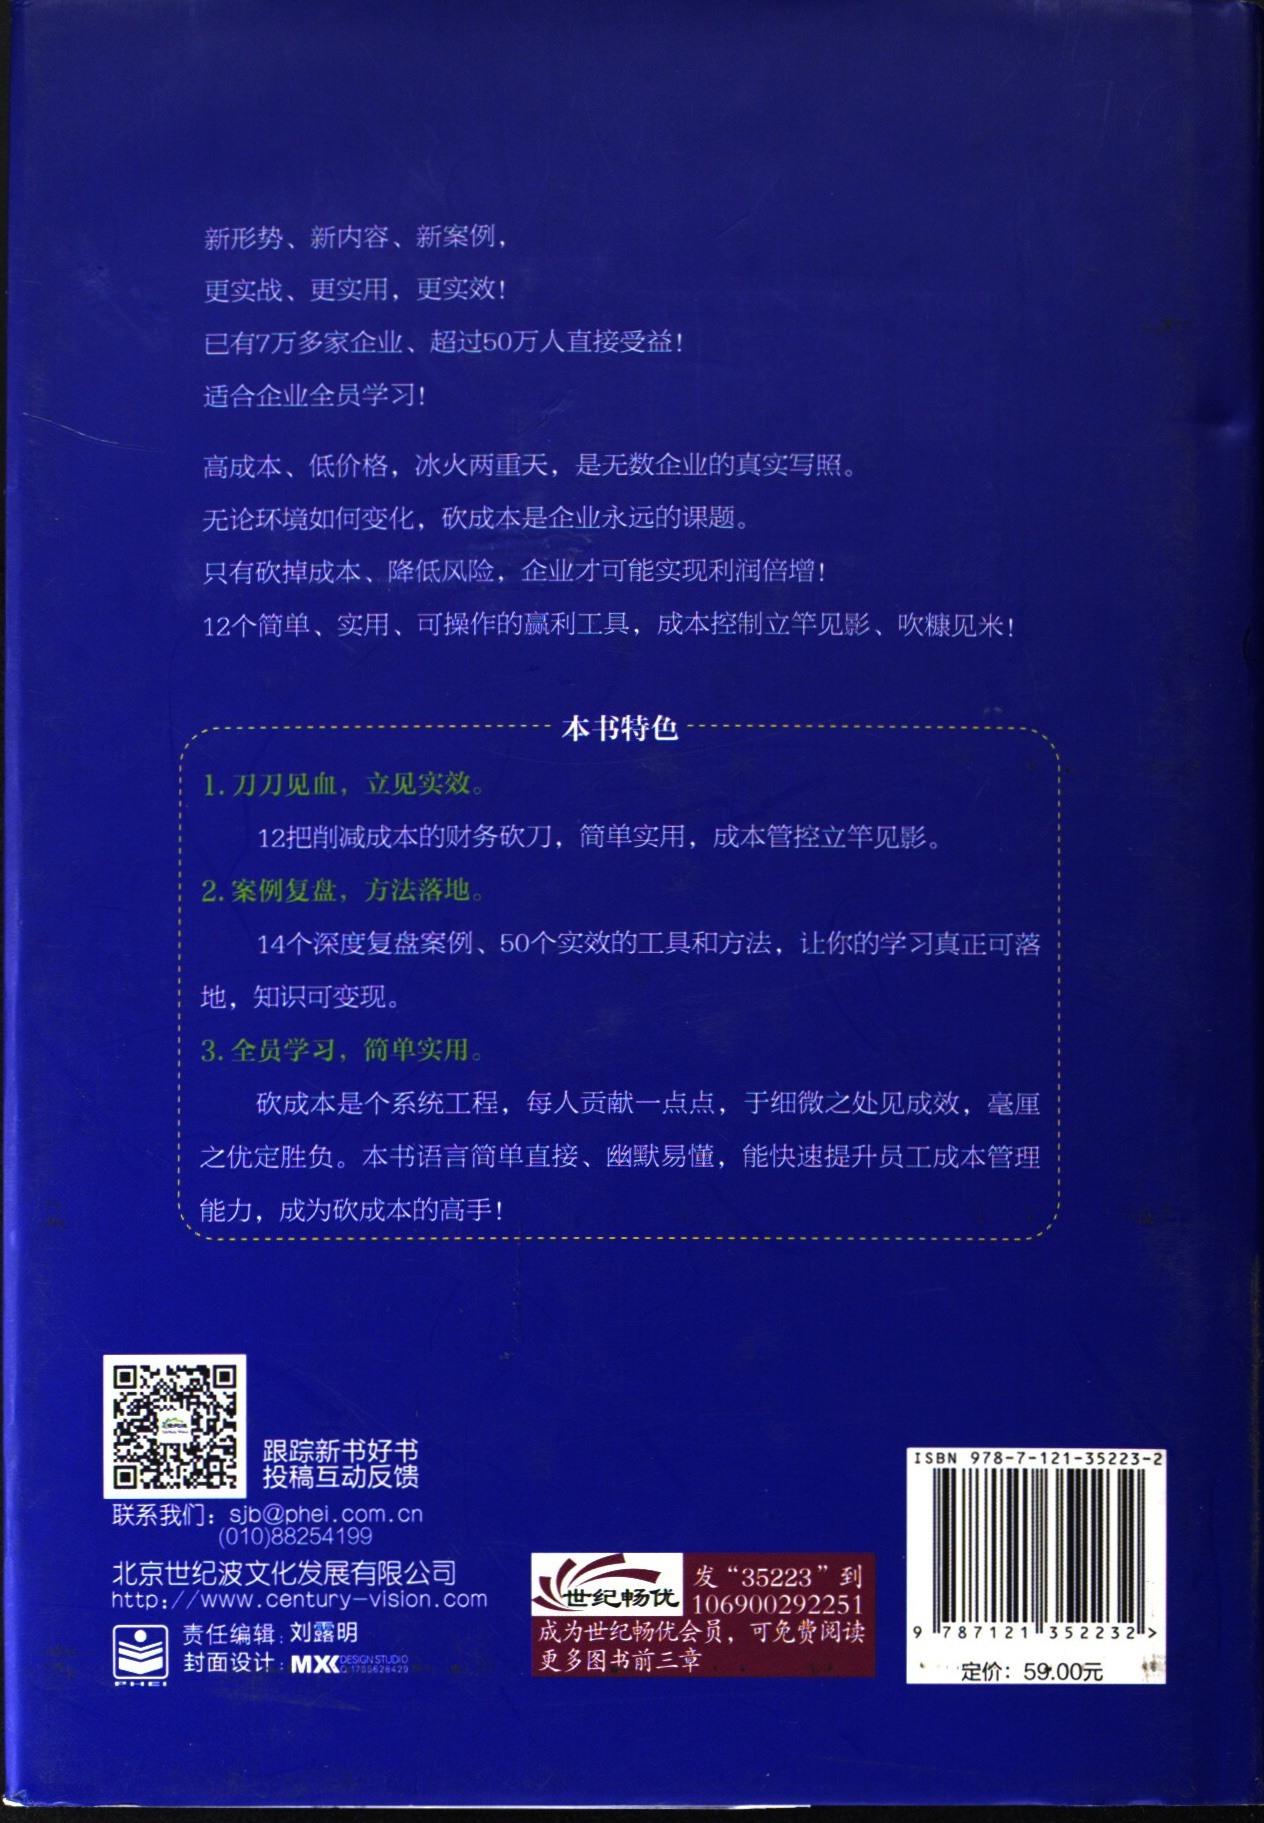barcode: (905, 1443, 1166, 1678)
